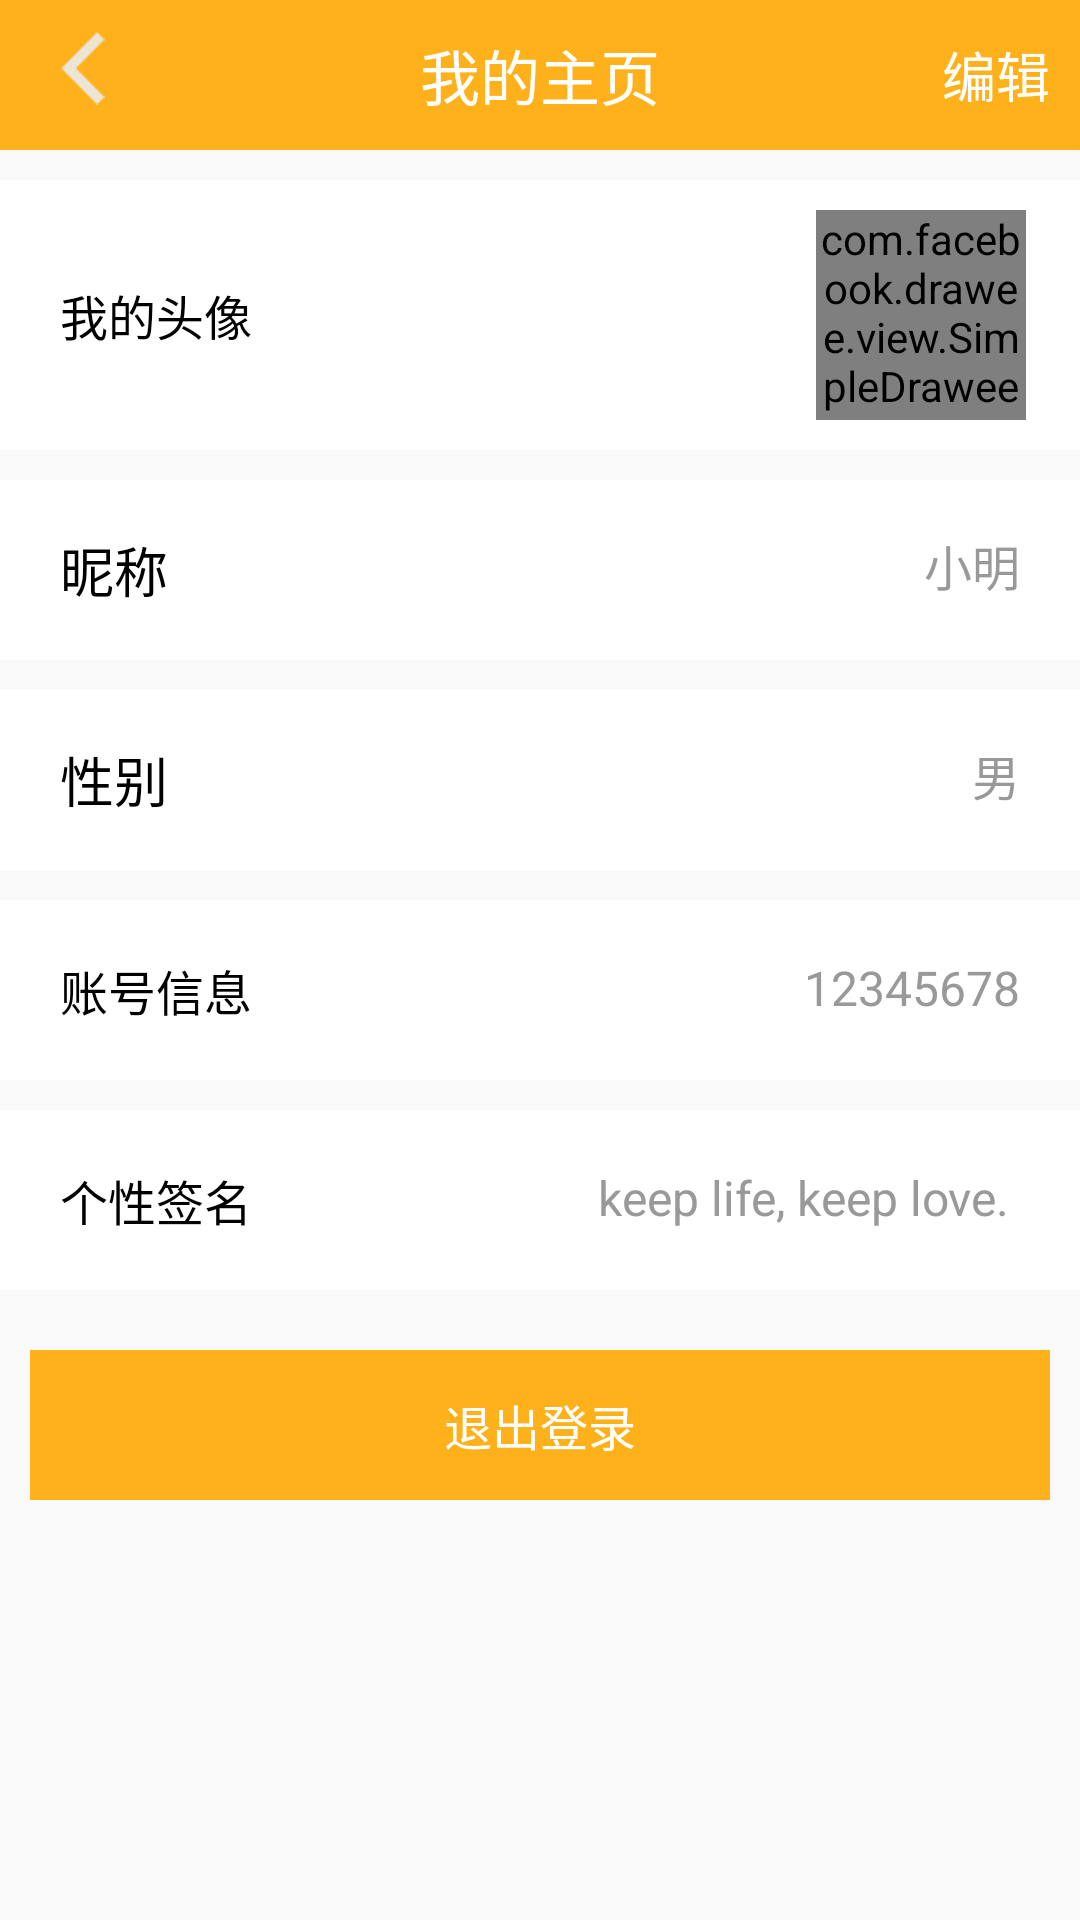

Named icons in this screenshot (1080x1920) and their centers, point (x, y):
back: point (83, 68)
